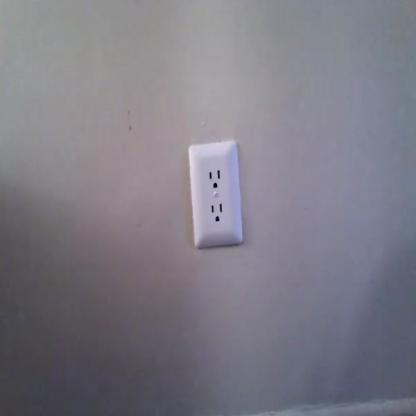OUTLET: (188, 146, 242, 242)
